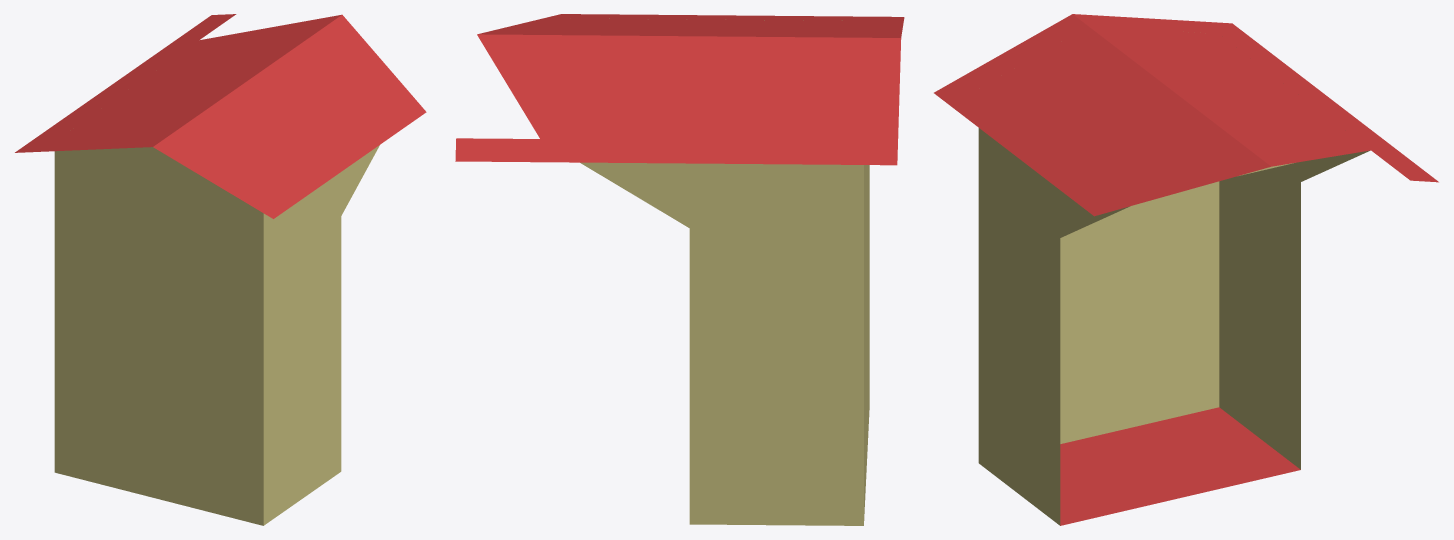
3 renders of one model, left to right at view 1: azimuth 30°, elevation 25°; view 2: azimuth 150°, elevation 25°; view 3: azimuth 270°, elevation 25°, orthographic. The views are drawn at different scales.
Size of the model in its own units: 13.75 by 15.24 by 13.67.
